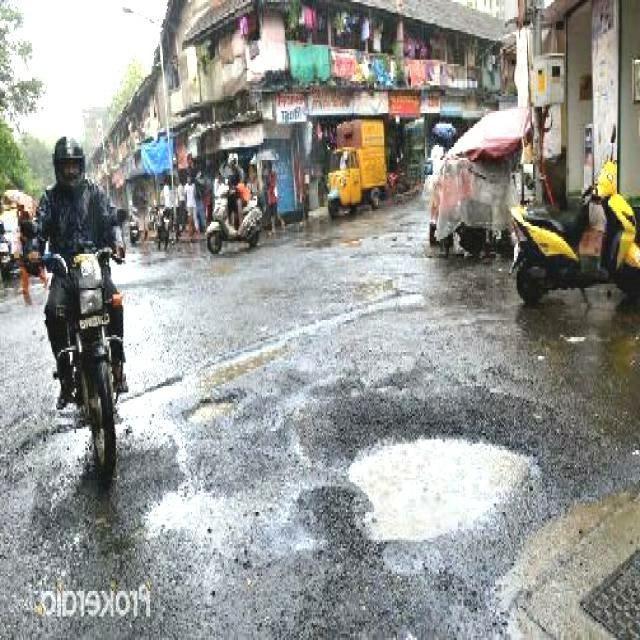Pothole: (336, 390, 542, 540), (183, 386, 240, 425)
